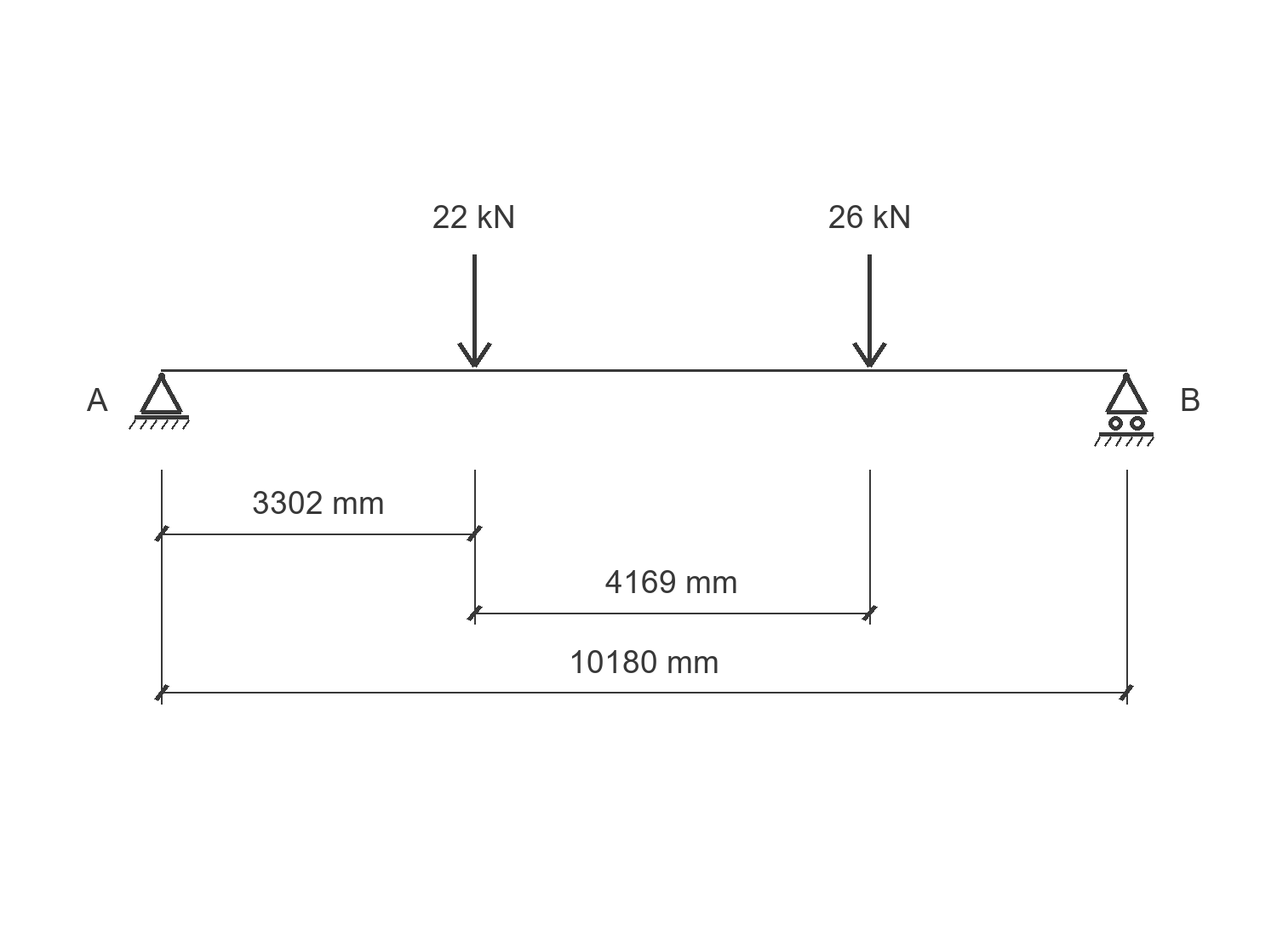pin_support: (129, 373, 190, 430)
point_load: (457, 254, 492, 368), (852, 254, 887, 368)
roller_support: (1094, 373, 1154, 447)
